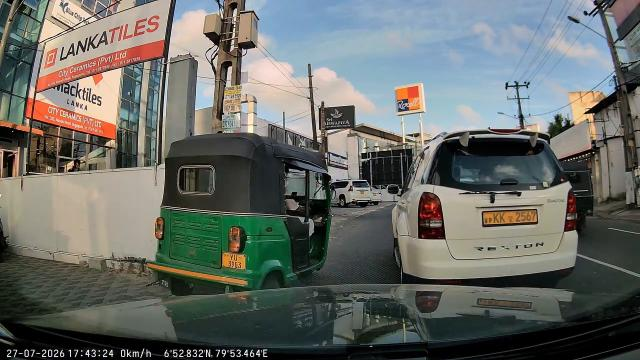illegal overtaking: (145, 128, 347, 293)
number plate: (474, 201, 554, 227), (217, 247, 251, 272)
